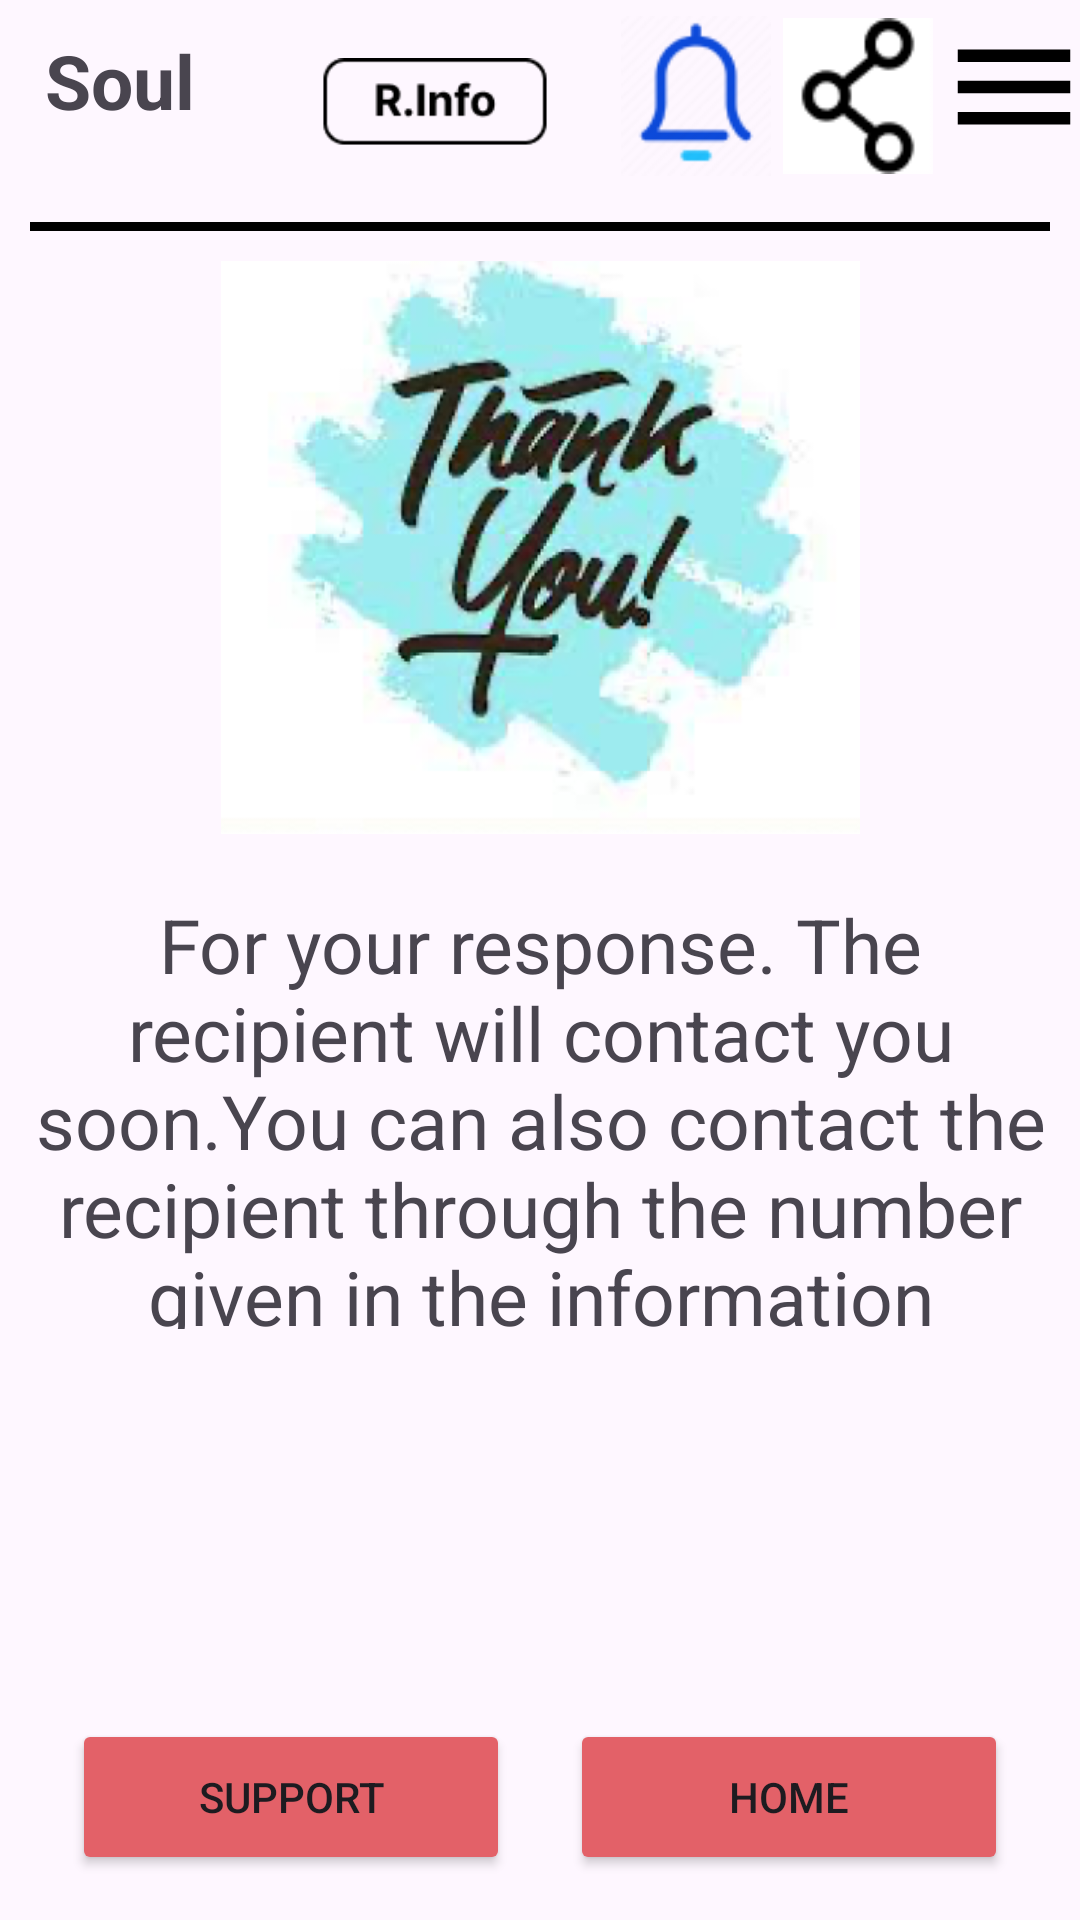

Icons on this 1080x1920 Android screen, each with the point to tap as point (x, y):
menu: point (1014, 87)
notification: point (696, 92)
share: point (858, 96)
